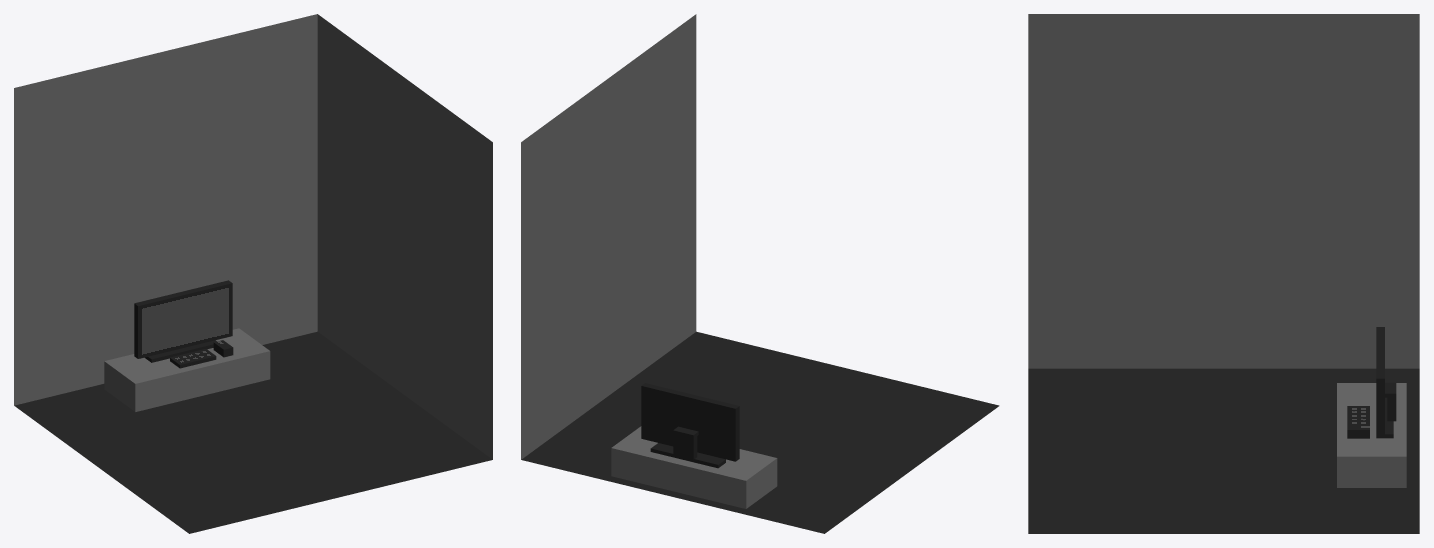
The model's file is çalış.gltf.
3 views of the same model, side by side, from view 1: azimuth 30°, elevation 25°; view 2: azimuth 150°, elevation 25°; view 3: azimuth 270°, elevation 25° (orthographic). The views are drawn at different scales.
Parts seen in each view (by area): view 1: plane (×3), cuboid (×3); view 2: plane (×2), cuboid (×4); view 3: plane (×2), cuboid (×2).
Part boxes in pixels (x1=…): plane (×3): x1=14, y1=14, x2=492, y2=533; cuboid (×3): x1=104, y1=280, x2=270, y2=411; plane (×2): x1=521, y1=14, x2=999, y2=533; cuboid (×4): x1=611, y1=383, x2=777, y2=508; plane (×2): x1=1028, y1=14, x2=1419, y2=533; cuboid (×2): x1=1337, y1=327, x2=1406, y2=487.
Size of the model in its own units: 5.63 by 5.63 by 5.63.
1 material, 1 textured.
